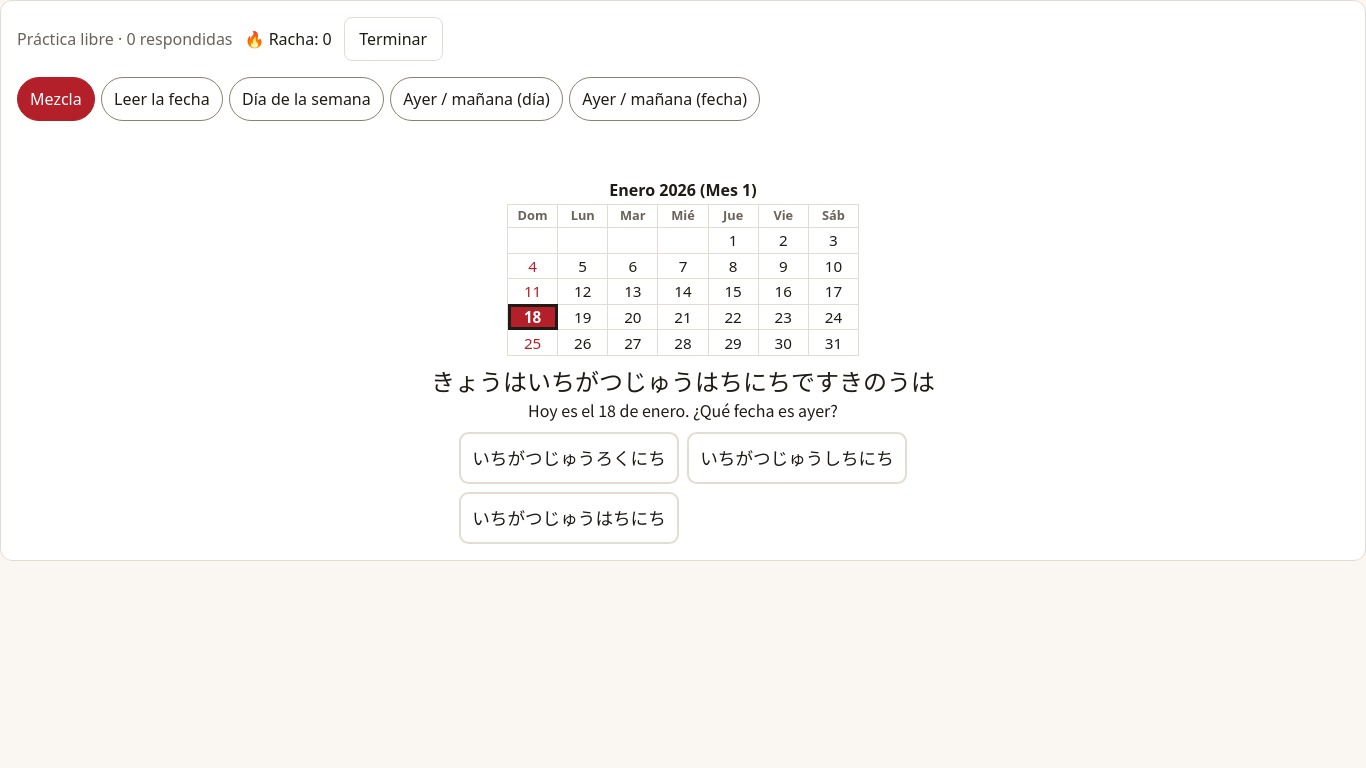
Scenario: Calendar game › free practice offers the kinds of question
The image size is (1366, 768).
Expected: the button "Ayer / mañana (día)" is shown, [390,77,563,121]
Click the button "Día de la semana" at [306, 99], box [229,77,384,121]
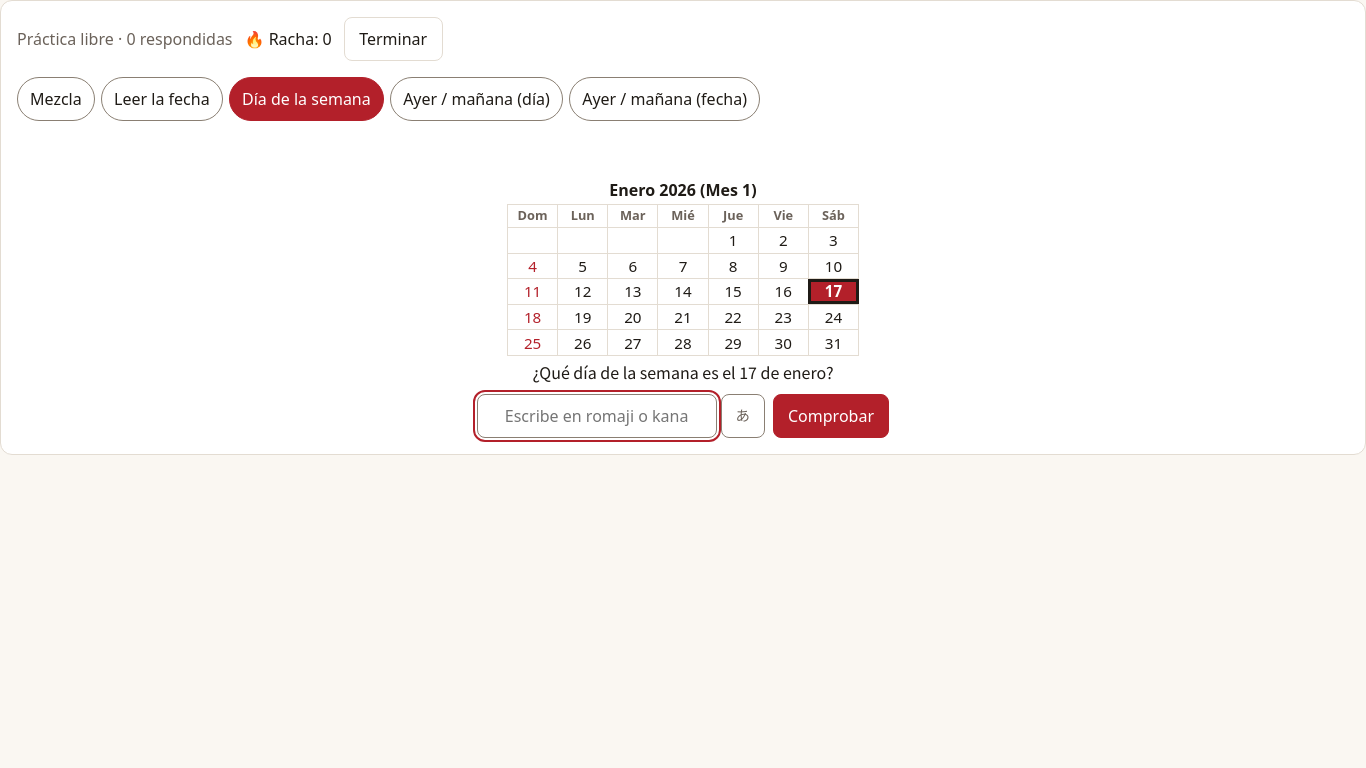
Result: the element with test id "prompt" shows "día de la semana" at [532,360,739,384]
